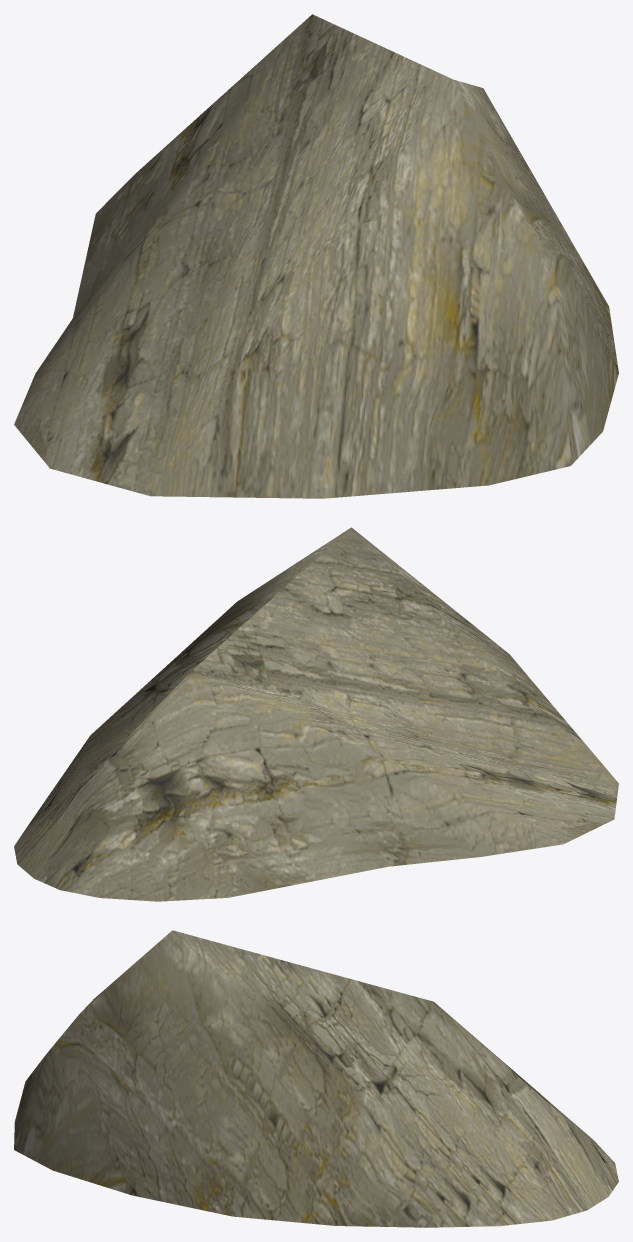
File: stone_granite_large_1.glb
3 renders of one model, top to bottom at view 1: azimuth 30°, elevation 25°; view 2: azimuth 150°, elevation 25°; view 3: azimuth 270°, elevation 25°, orthographic. The views are drawn at different scales.
Visible parts, largest first — view 1: stone_granite_large_1; view 2: stone_granite_large_1; view 3: stone_granite_large_1.
Boxes of the visible parts, x1=… form: stone_granite_large_1: x1=14, y1=14, x2=618, y2=498; stone_granite_large_1: x1=14, y1=527, x2=618, y2=901; stone_granite_large_1: x1=14, y1=930, x2=618, y2=1227.
Bounding box in the file's own units: 1.51 × 0.717 × 1.81.
1 material, 1 textured.
